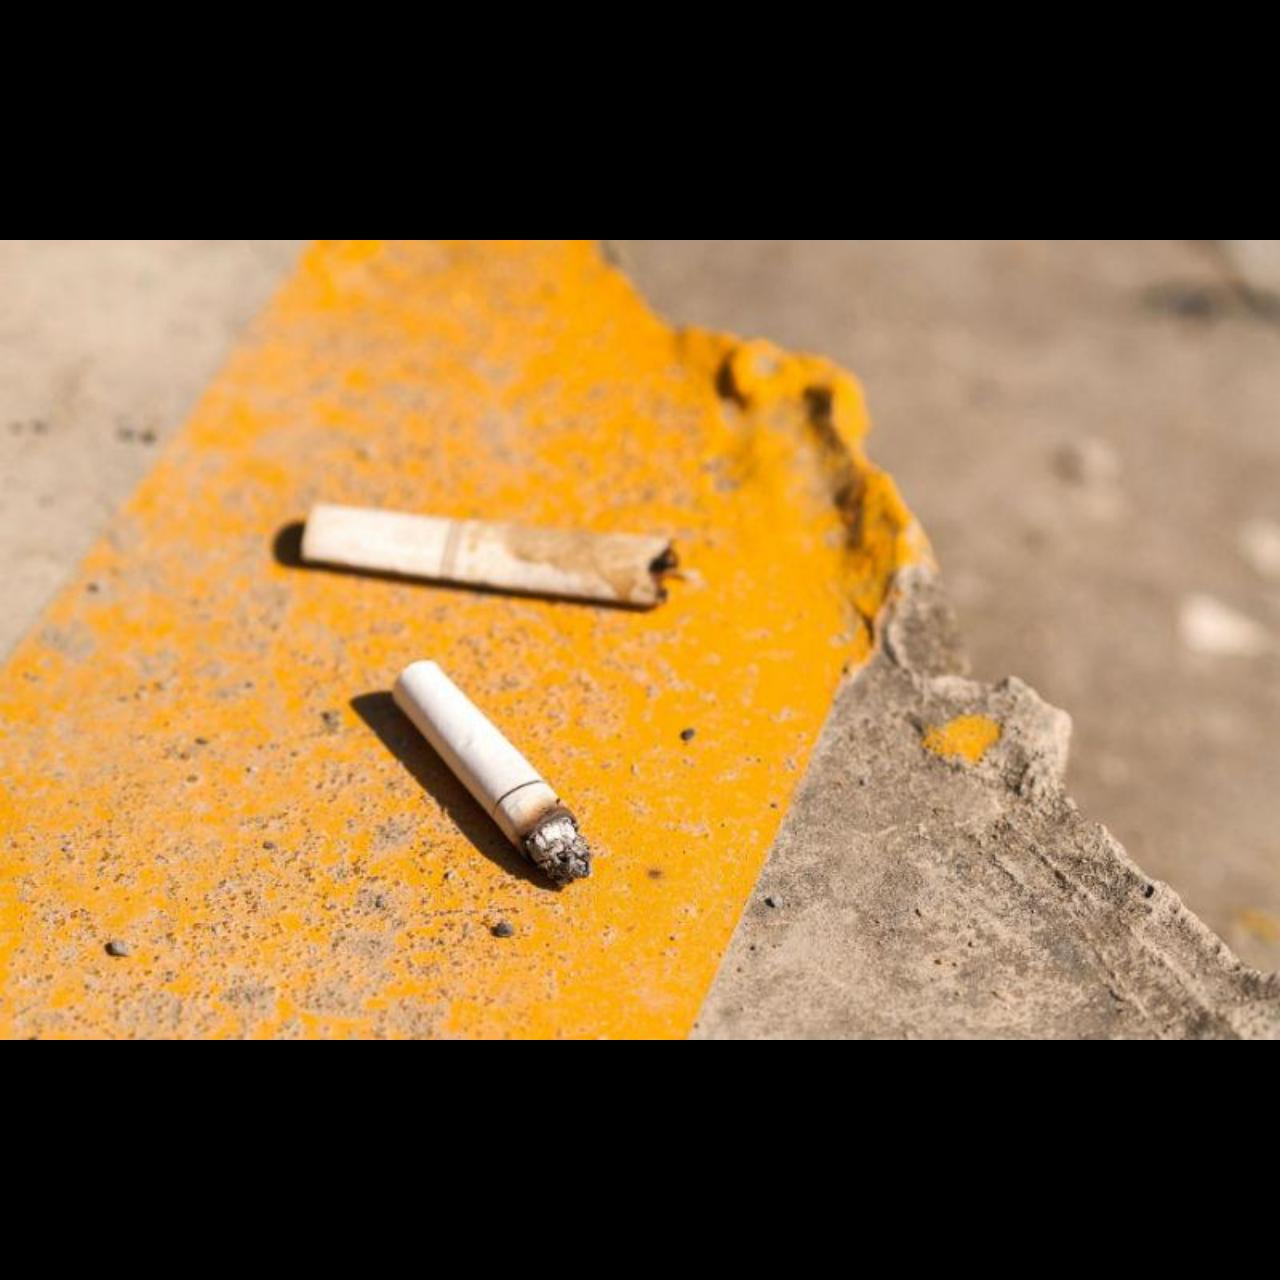cigarettes_butts: (394, 659, 590, 886), (302, 506, 675, 606)
